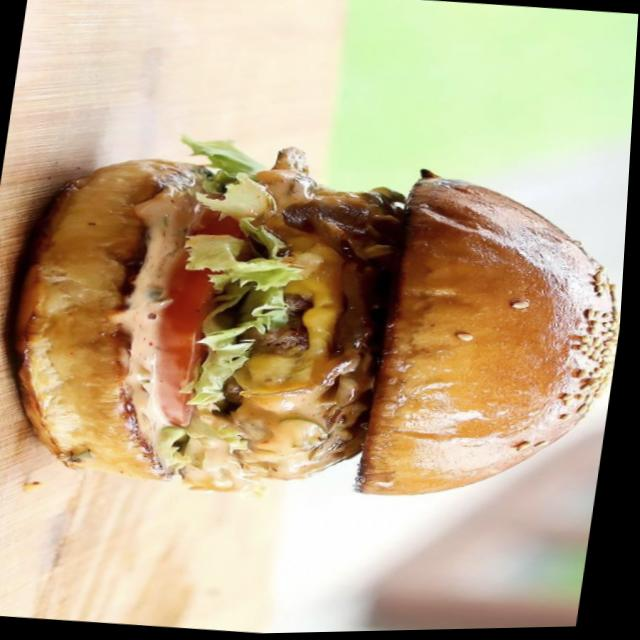burger: (0, 137, 633, 522)
